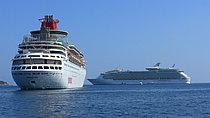Ship: (9, 12, 90, 94)
